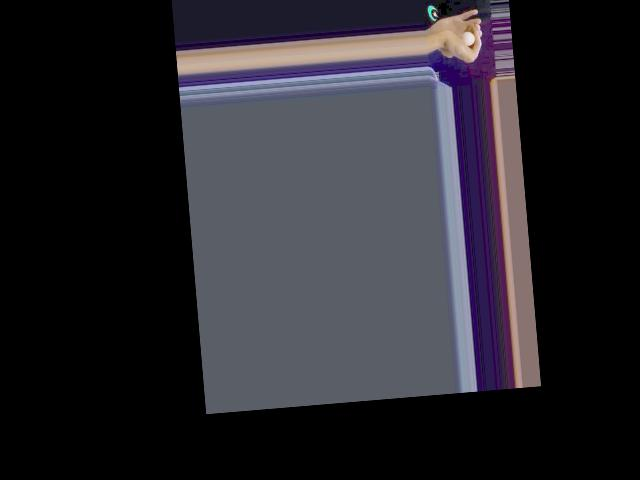egg: (463, 31, 475, 46)
